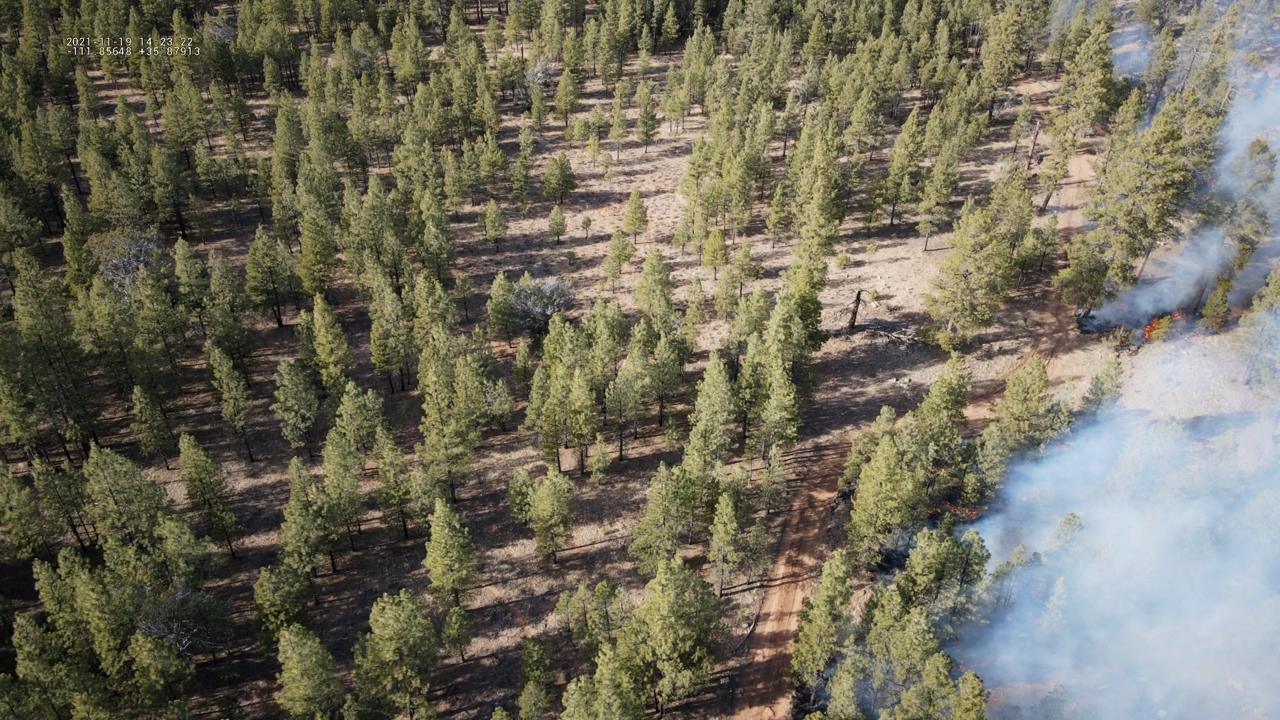fire: (1141, 318, 1158, 340), (1170, 308, 1184, 321), (943, 500, 956, 512), (967, 510, 977, 521), (925, 509, 934, 515)
smoke: (810, 0, 1280, 720)
